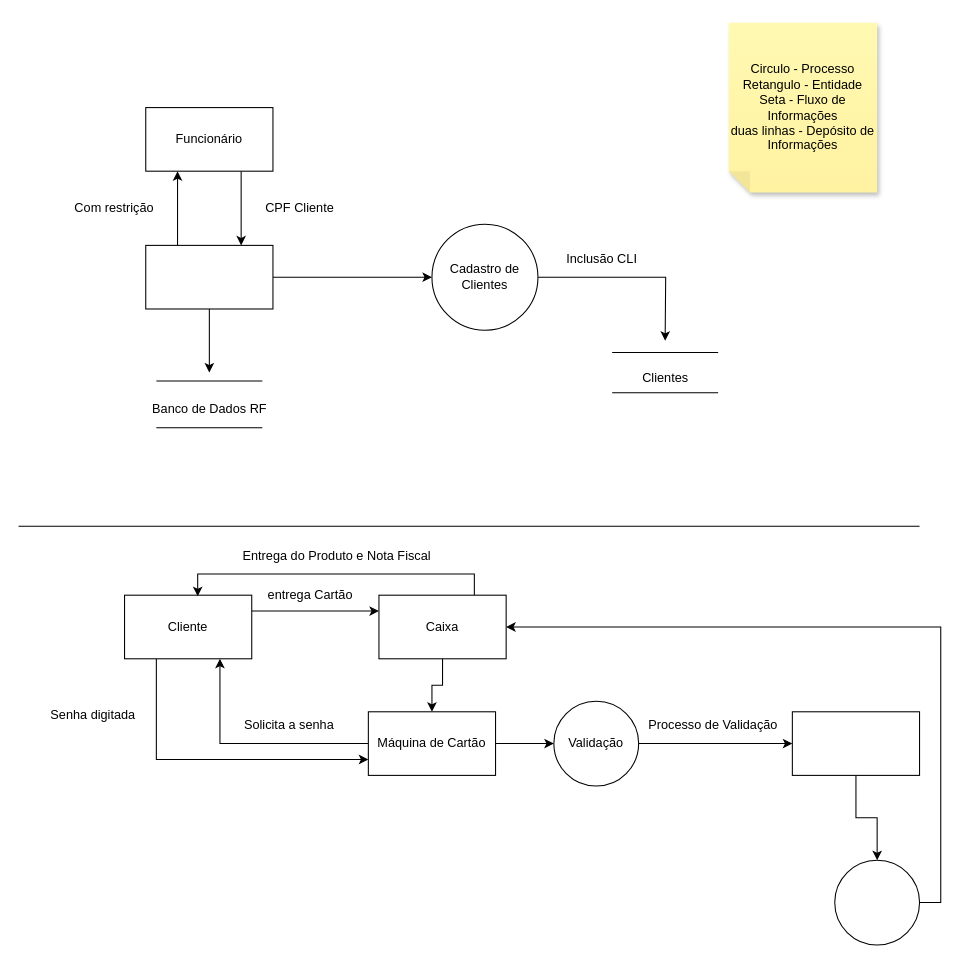
The diagram is 968 pixels wide and 964 high, and some of its shapes have lost their labels. Here are the shapes that lost their labels. From the top down, the centre of each, then its label:
(x=209, y=276): Receita Federal
(x=855, y=743): Operadora do Cartão
(x=877, y=902): Emissão da Nota Fiscal
